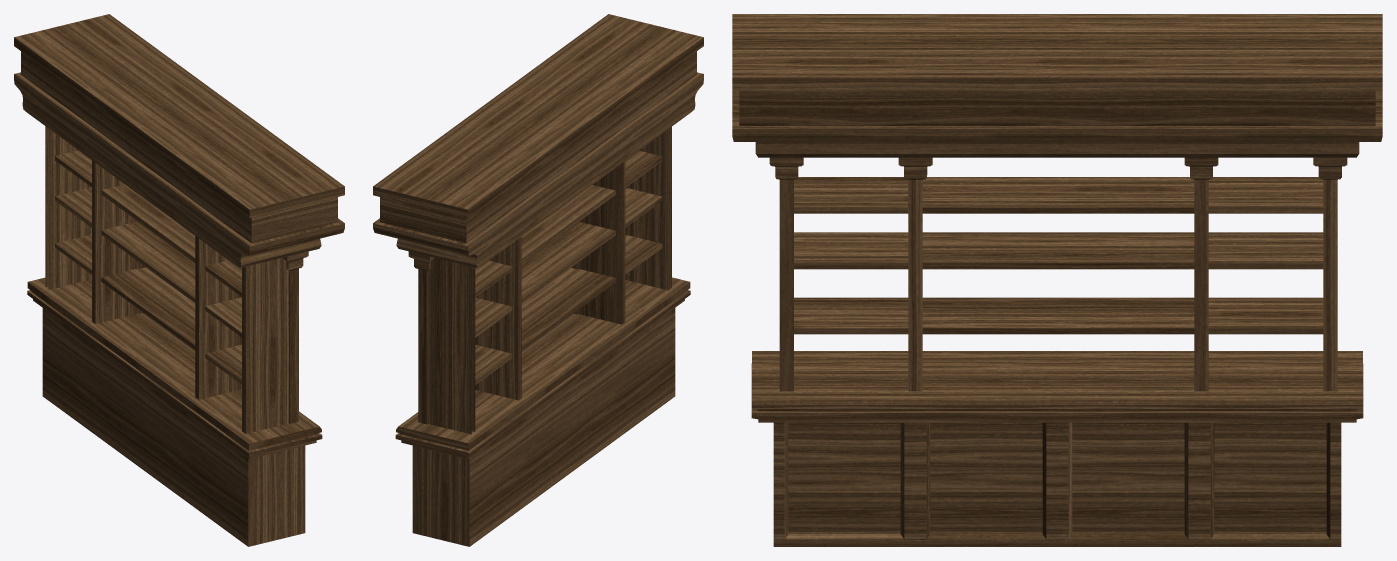
Rendered from BarShelf.fbx.
3 views of the same model, side by side, from view 1: azimuth 30°, elevation 25°; view 2: azimuth 150°, elevation 25°; view 3: azimuth 270°, elevation 25° (orthographic). The views are drawn at different scales.
Visible parts, largest first — view 1: Plane.002; view 2: Plane.002; view 3: Plane.002.
Boxes of the visible parts, box(x1,y1,x2,y2) form: Plane.002: box(14, 14, 344, 546); Plane.002: box(373, 14, 703, 546); Plane.002: box(732, 14, 1382, 546).
Size of the model in its own units: 83.61 by 295 by 358.
